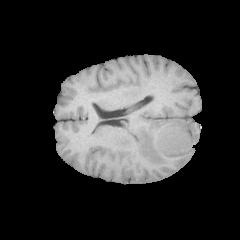glioma: (133, 119, 197, 165)
